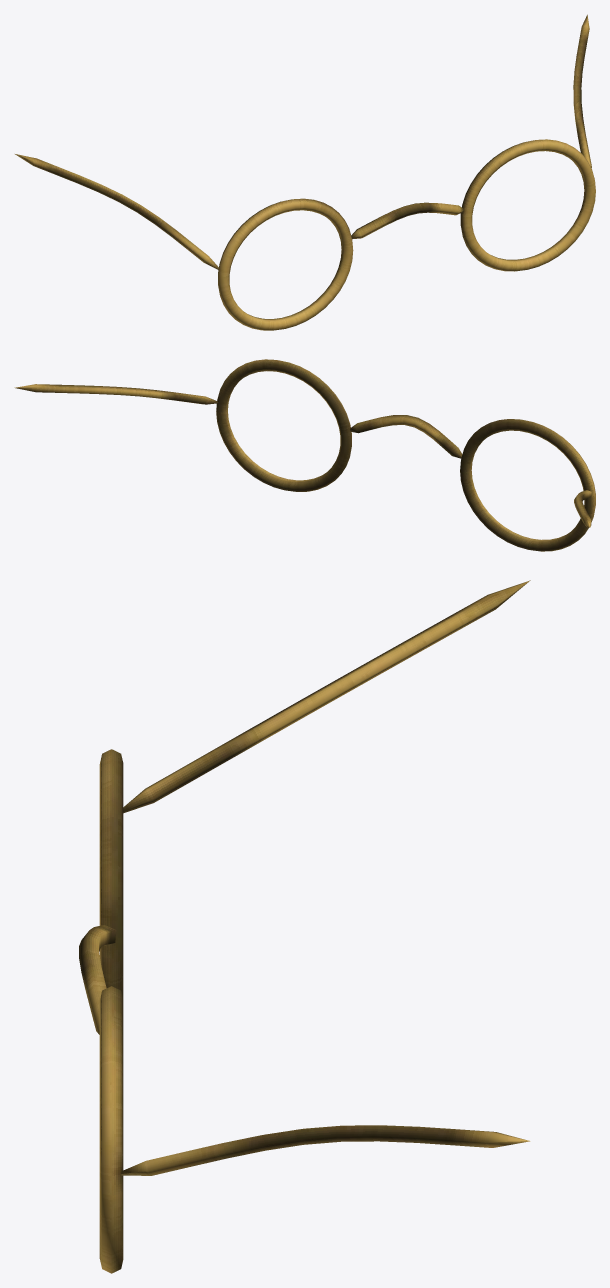
File: glasses.glb
The picture shows the model from 3 angles, top to bottom: view 1: azimuth 30°, elevation 25°; view 2: azimuth 150°, elevation 25°; view 3: azimuth 270°, elevation 25°; orthographic projection. The views are drawn at different scales.
Parts seen in each view (by area): view 1: glasses_rimr, glasses_riml, glasses_arml, glasses_armr, glasses_bridge; view 2: glasses_rimr, glasses_riml, glasses_armr, glasses_bridge, glasses_arml; view 3: glasses_arml, glasses_rimr, glasses_armr, glasses_riml, glasses_bridge.
Part boxes in pixels (bbox=[...]): glasses_rimr: bbox=[460, 139, 595, 271]; glasses_riml: bbox=[218, 198, 353, 330]; glasses_arml: bbox=[15, 154, 218, 269]; glasses_armr: bbox=[573, 14, 591, 167]; glasses_bridge: bbox=[351, 202, 463, 239]; glasses_rimr: bbox=[216, 359, 351, 491]; glasses_riml: bbox=[460, 419, 595, 551]; glasses_armr: bbox=[14, 384, 218, 404]; glasses_bridge: bbox=[350, 415, 462, 458]; glasses_arml: bbox=[574, 490, 591, 527]; glasses_arml: bbox=[123, 580, 530, 813]; glasses_rimr: bbox=[99, 986, 123, 1273]; glasses_armr: bbox=[120, 1125, 530, 1175]; glasses_riml: bbox=[99, 749, 123, 998]; glasses_bridge: bbox=[79, 925, 116, 1034].
Bounding box in the file's own units: 29.45 × 6.82 × 10.05.
Materials: 1 (1 with a texture image).
